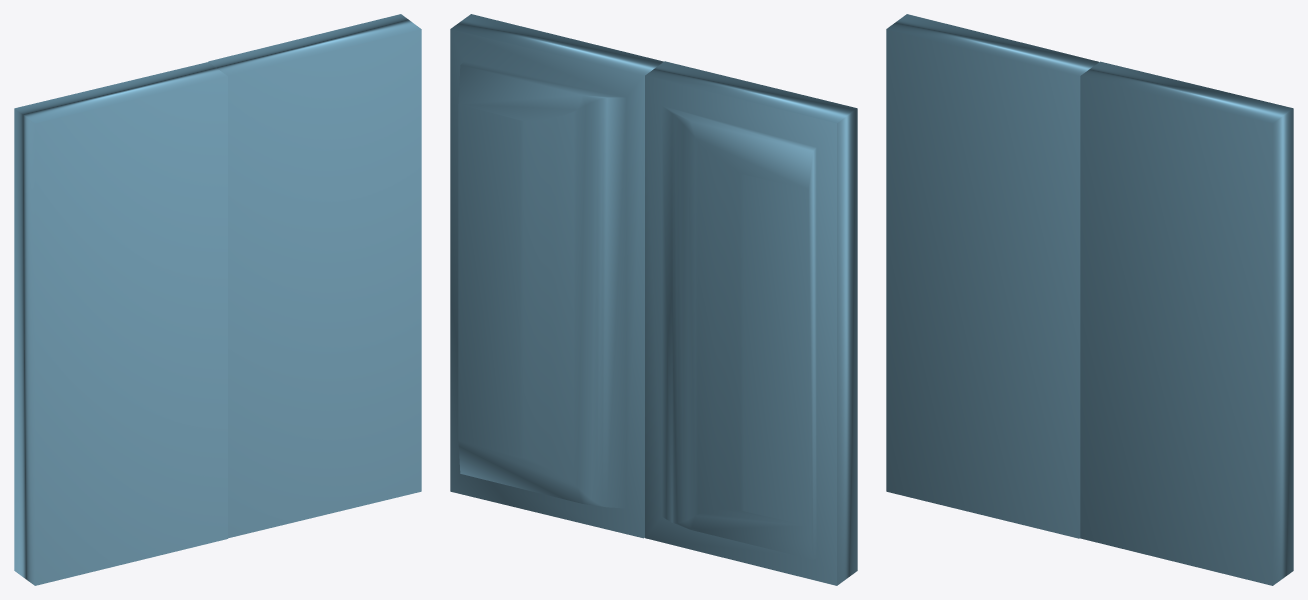
Rendered from hood_door_closed.glb.
3 views of the same model, side by side, from view 1: azimuth 30°, elevation 25°; view 2: azimuth 150°, elevation 25°; view 3: azimuth 330°, elevation 25° (orthographic).
Visible parts, largest first — view 1: PUERTA BARRIO 1, PUERTA BARRIO 2; view 2: PUERTA BARRIO 1, PUERTA BARRIO 2; view 3: PUERTA BARRIO 2, PUERTA BARRIO 1.
Boxes of the visible parts, x1,y1,x2,y2 form: PUERTA BARRIO 1: (14, 62, 227, 585); PUERTA BARRIO 2: (208, 14, 421, 538); PUERTA BARRIO 1: (645, 61, 857, 585); PUERTA BARRIO 2: (450, 14, 663, 538); PUERTA BARRIO 2: (1080, 61, 1293, 585); PUERTA BARRIO 1: (886, 14, 1098, 538).
Size of what is drawn, in the model's own units: 9.1 by 10.39 by 1.32.
Materials: 1 (1 with a texture image).
